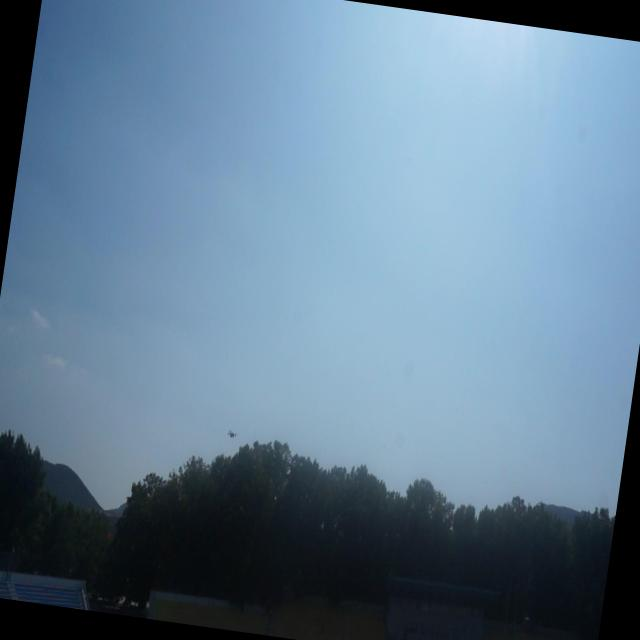drone: (225, 427, 239, 443)
